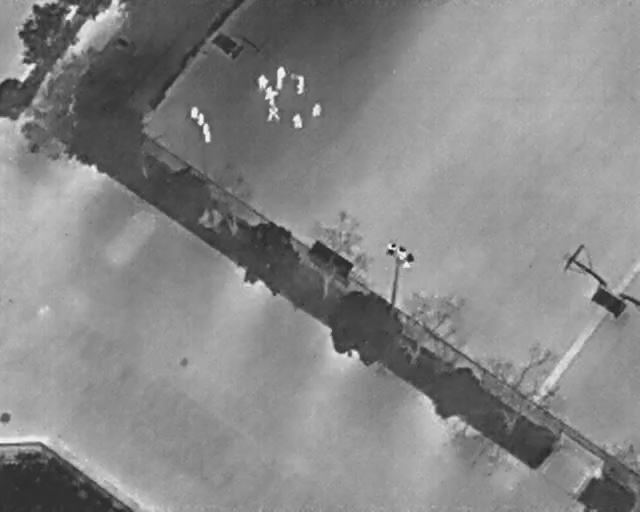Person: (255, 72, 269, 94), (289, 110, 304, 130), (275, 66, 287, 89), (266, 105, 281, 123), (265, 84, 278, 104), (295, 74, 306, 95), (312, 102, 322, 118)
